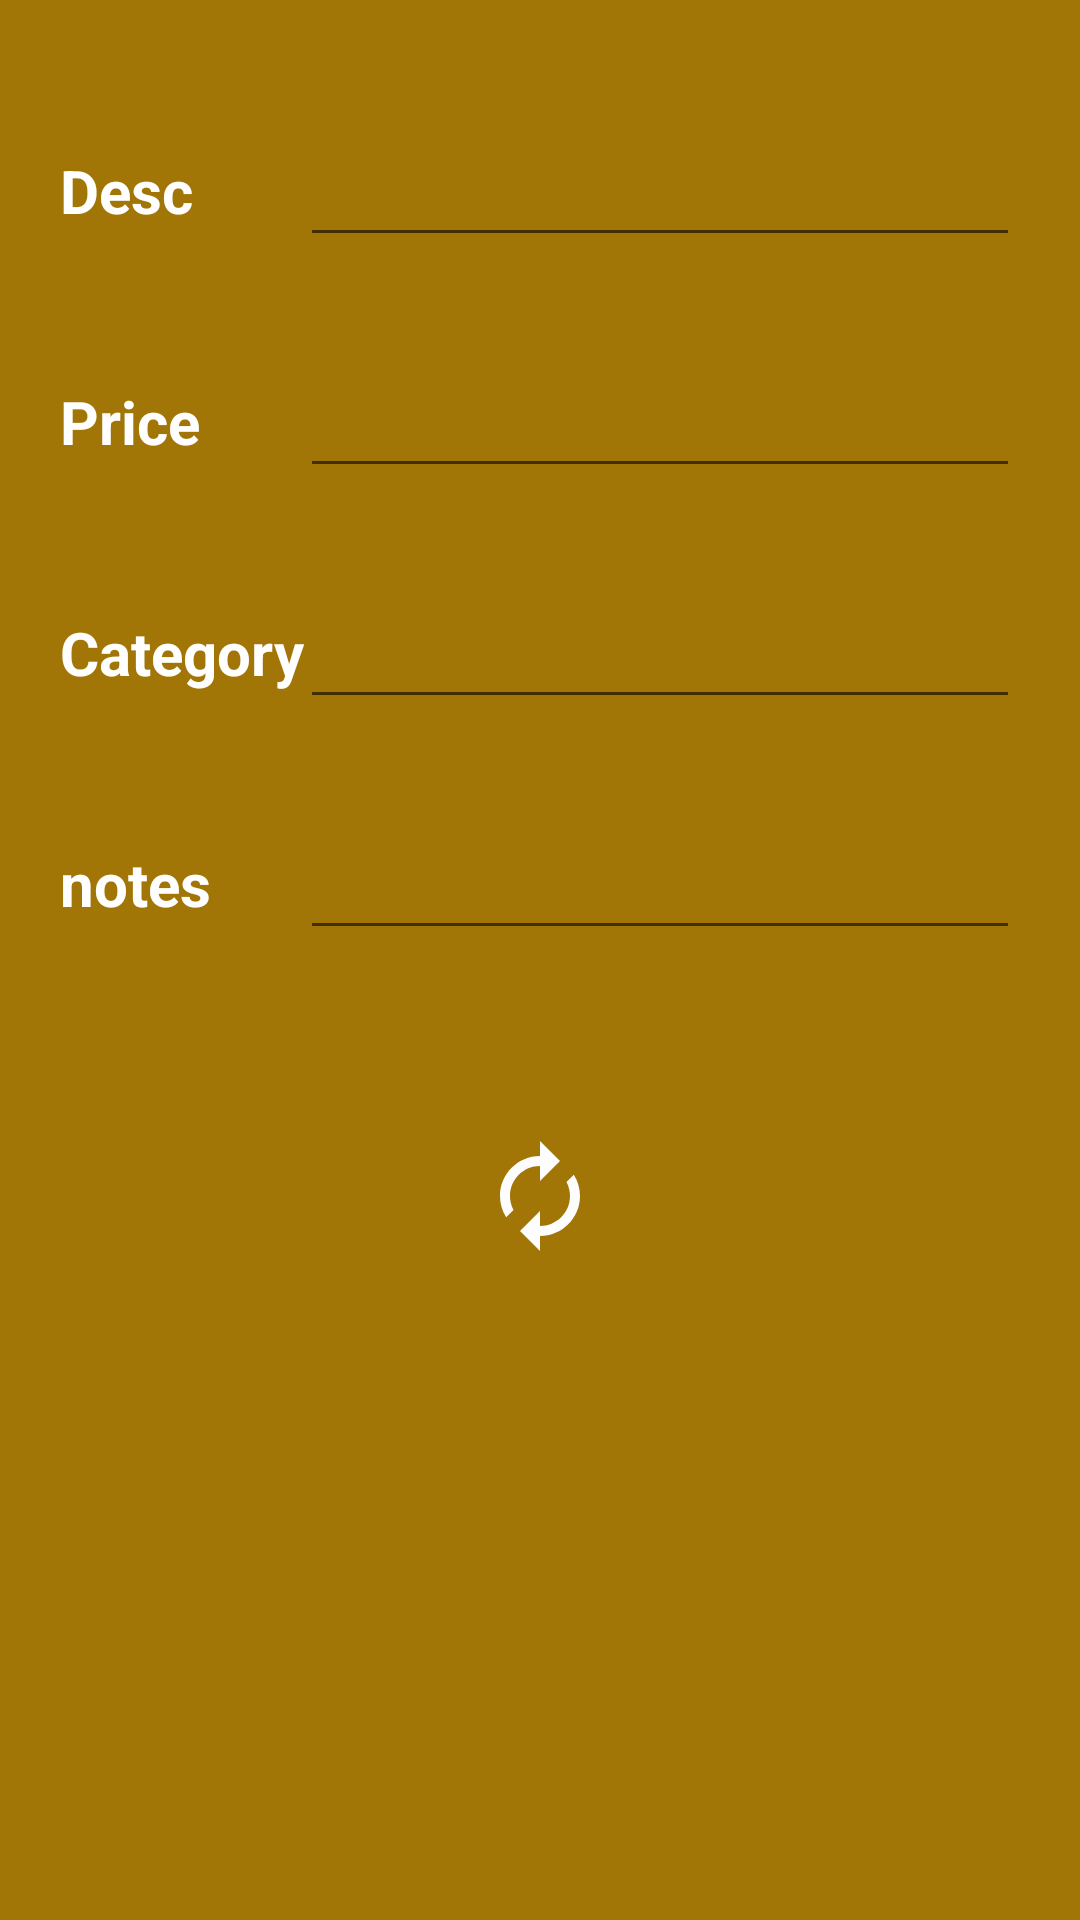

Screen size 1080px x 1920px. Icon name, then its box in pixels as bbox(x1, y1, x2, y2):
update: bbox(500, 1141, 580, 1251)
